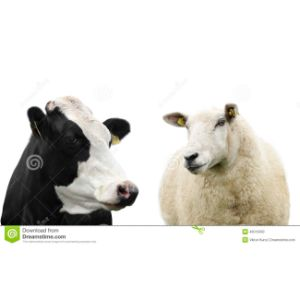cow: (4, 95, 143, 222)
sheep: (154, 99, 293, 225)
